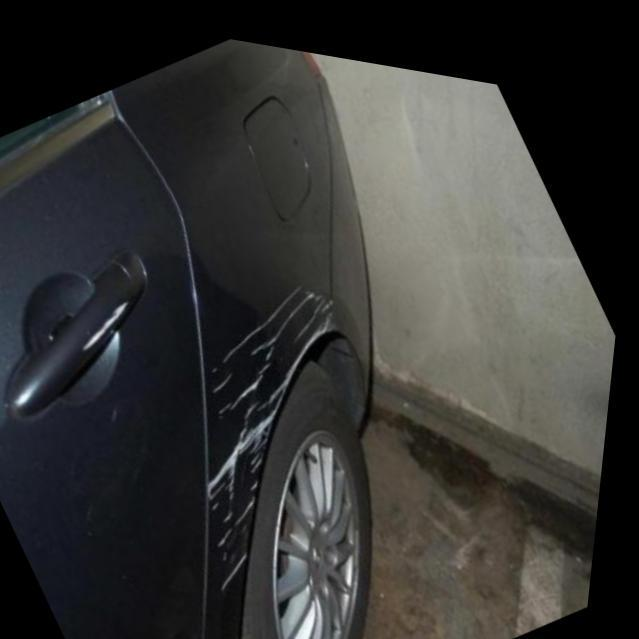rub: (217, 275, 337, 576)
